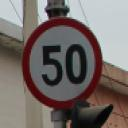speed_limit_50: (21, 16, 105, 108)
